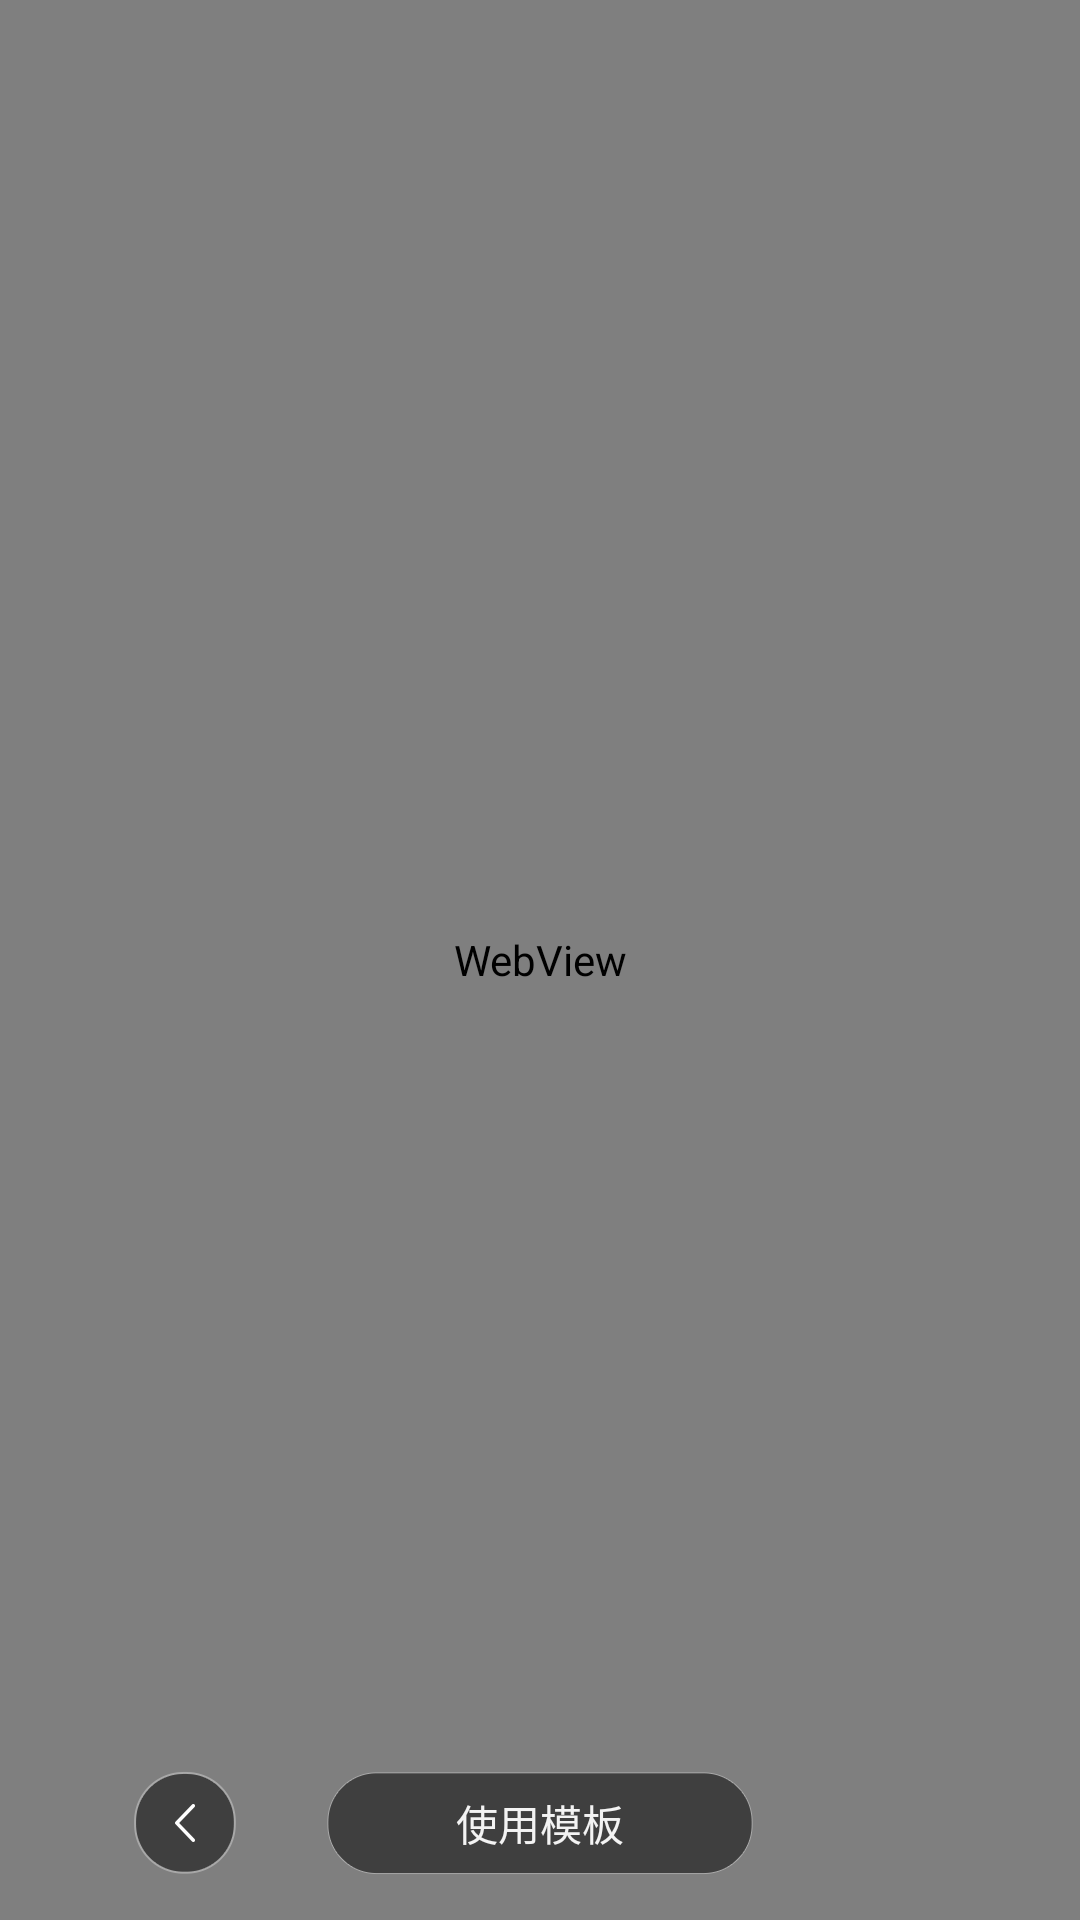

Icon click points for this 1080*1920 phone screenshot, format [x,y]:
model back: [185,1823]
